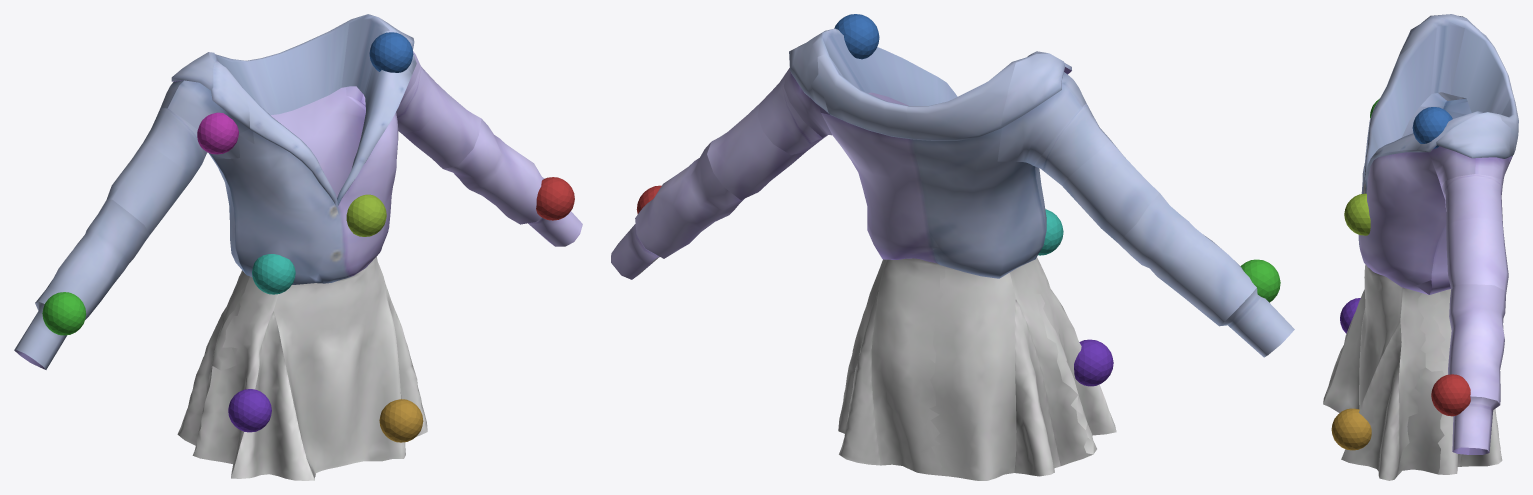
Rendered from canonicalized_front_view_anchors.glb.
3 renders of one model, left to right at view 1: azimuth 30°, elevation 25°; view 2: azimuth 150°, elevation 25°; view 3: azimuth 270°, elevation 25°, orthographic. The views are drawn at different scales.
Visible parts, largest first — view 1: Object_3, anchor_08_rgb_019_142_014, anchor_07_rgb_046_014_142, anchor_06_rgb_142_083_014, anchor_02_rgb_014_051_142, anchor_05_rgb_014_142_120, anchor_04_rgb_142_014_126, anchor_01_rgb_142_014_014, anchor_03_rgb_089_142_014; view 2: Object_3, anchor_07_rgb_046_014_142, anchor_02_rgb_014_051_142, anchor_08_rgb_019_142_014; view 3: Object_3, anchor_01_rgb_142_014_014, anchor_06_rgb_142_083_014, anchor_02_rgb_014_051_142, anchor_03_rgb_089_142_014, anchor_07_rgb_046_014_142.
Part boxes in pixels (x1,y1,x2,y2): Object_3: (14, 14, 582, 480); anchor_08_rgb_019_142_014: (42, 292, 86, 335); anchor_07_rgb_046_014_142: (228, 389, 271, 432); anchor_06_rgb_142_083_014: (379, 399, 423, 442); anchor_02_rgb_014_051_142: (369, 32, 413, 72); anchor_05_rgb_014_142_120: (252, 254, 295, 294); anchor_04_rgb_142_014_126: (197, 112, 238, 154); anchor_01_rgb_142_014_014: (536, 177, 574, 220); anchor_03_rgb_089_142_014: (346, 194, 386, 236); Object_3: (611, 28, 1294, 480); anchor_07_rgb_046_014_142: (1074, 339, 1113, 386); anchor_02_rgb_014_051_142: (834, 14, 879, 59); anchor_08_rgb_019_142_014: (1240, 259, 1280, 302); Object_3: (1323, 14, 1518, 480); anchor_01_rgb_142_014_014: (1431, 374, 1470, 416); anchor_06_rgb_142_083_014: (1331, 408, 1371, 450); anchor_02_rgb_014_051_142: (1412, 107, 1452, 148); anchor_03_rgb_089_142_014: (1344, 193, 1370, 235); anchor_07_rgb_046_014_142: (1340, 298, 1360, 333).
Bounding box in the file's own units: 1.95 × 1.25 × 0.5786.
1 material, 1 textured.
